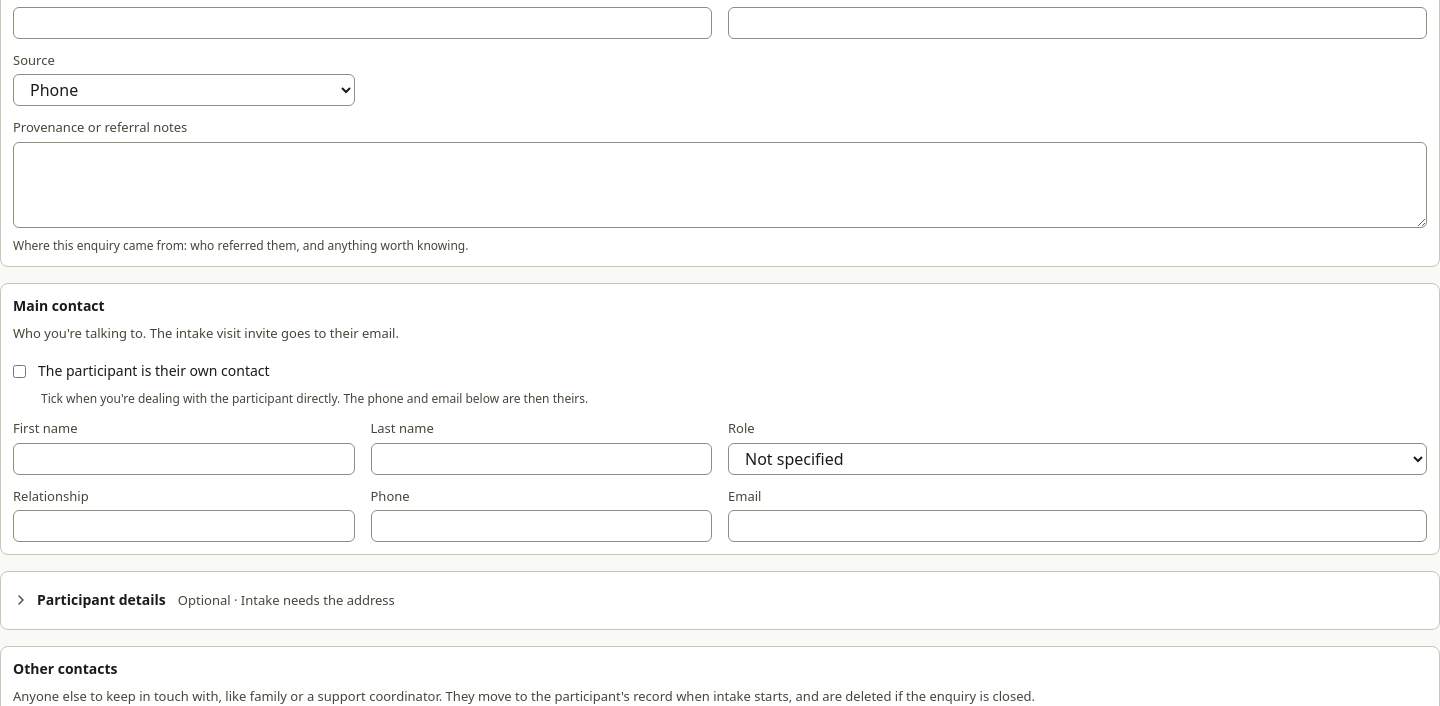
Test case: InquiryFormPage (wire) — capturing an enquiry › falls back to a plain message when the failure carries no server text
Type "Ava" into the field labelled "First name *".
click(362, 22); type("Ava")  # box x1=13 y1=6 x2=712 y2=38
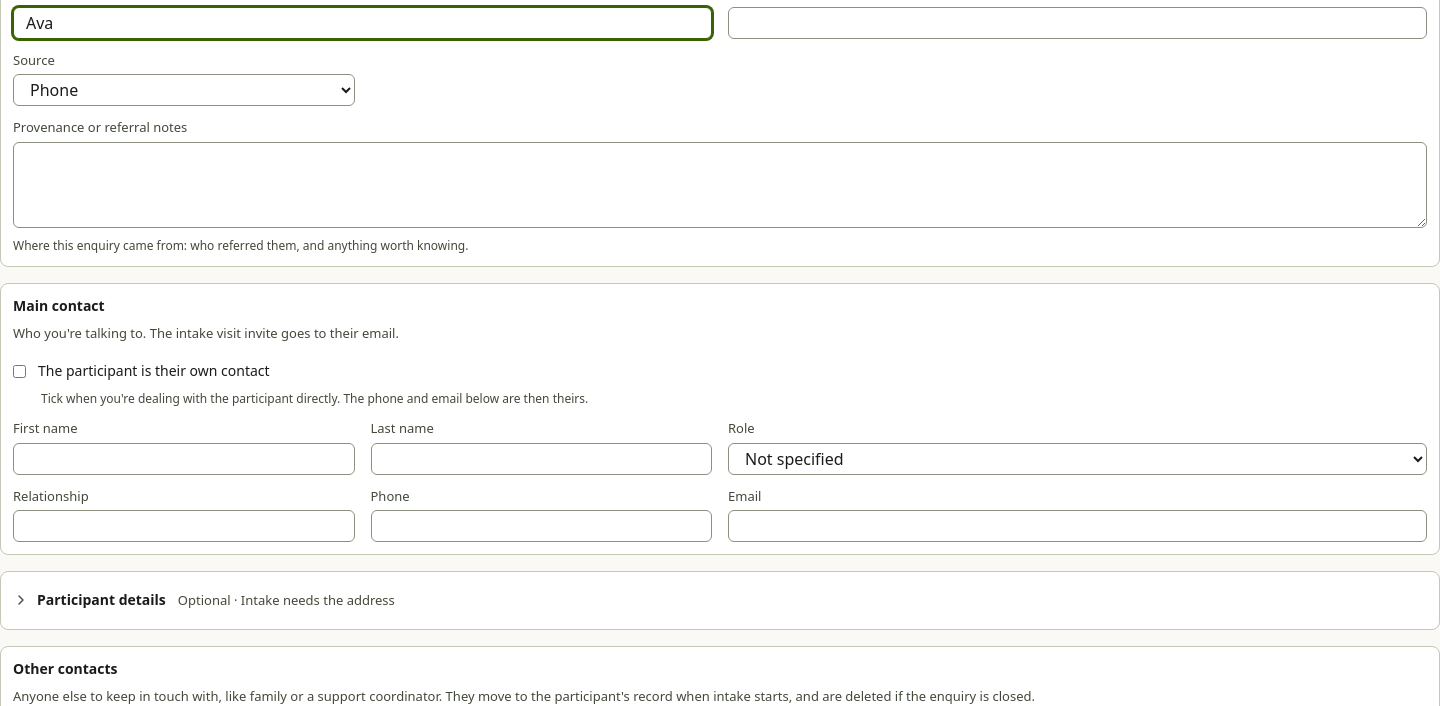
Type "Ng" into the 1st field labelled "Last name".
click(1078, 22); type("Ng")  # box x1=728 y1=6 x2=1427 y2=38
(page scrolled)
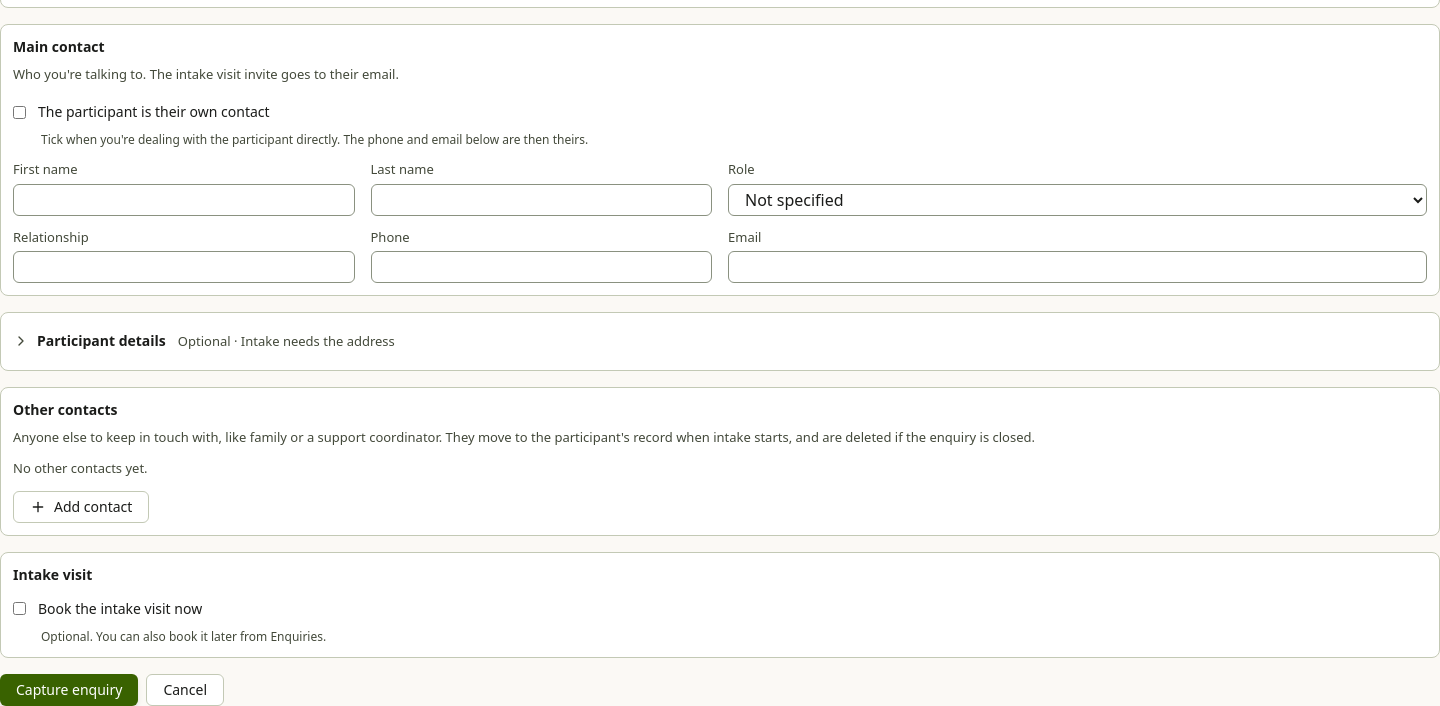
Click the button "Capture enquiry".
click(69, 690)  # box x1=0 y1=674 x2=138 y2=705
(page scrolled)
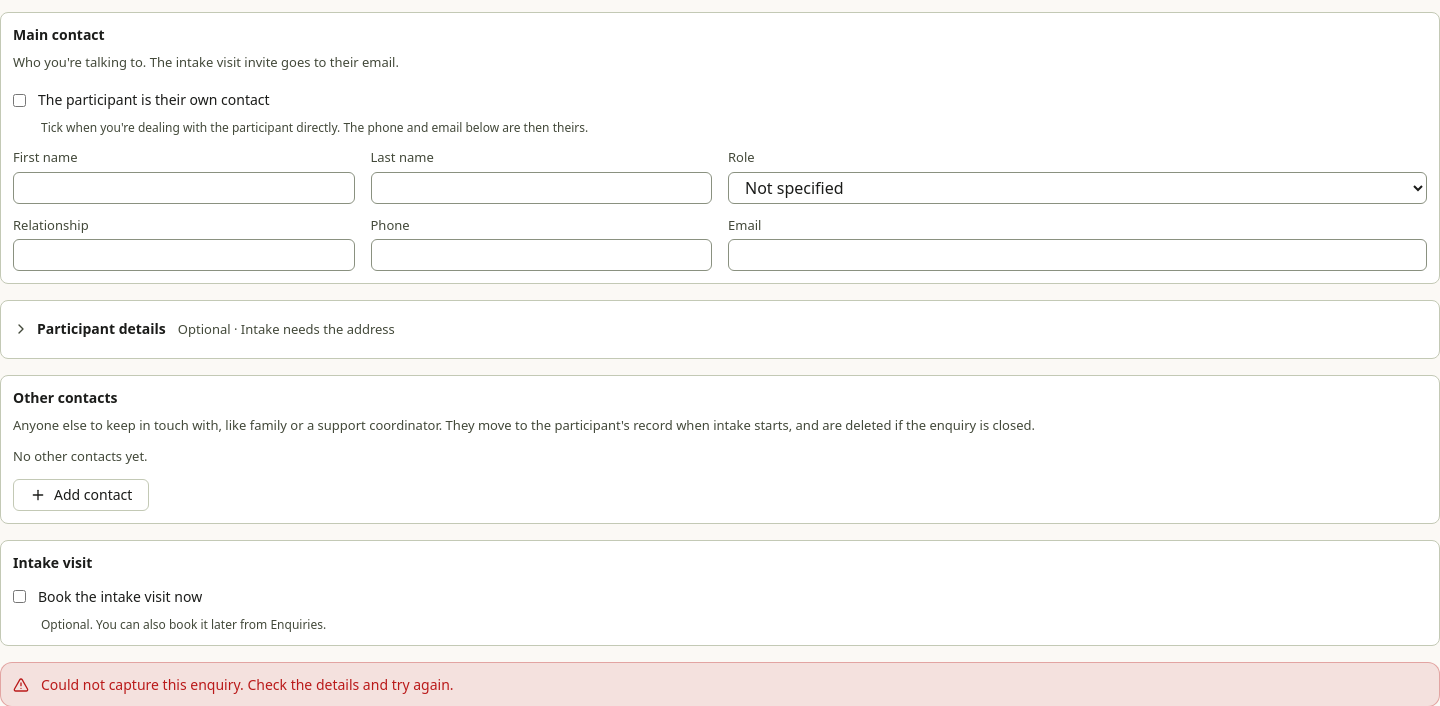
Now the message reads "Could not capture this enquiry. Check the details and try again.", box x1=41 y1=674 x2=454 y2=694
